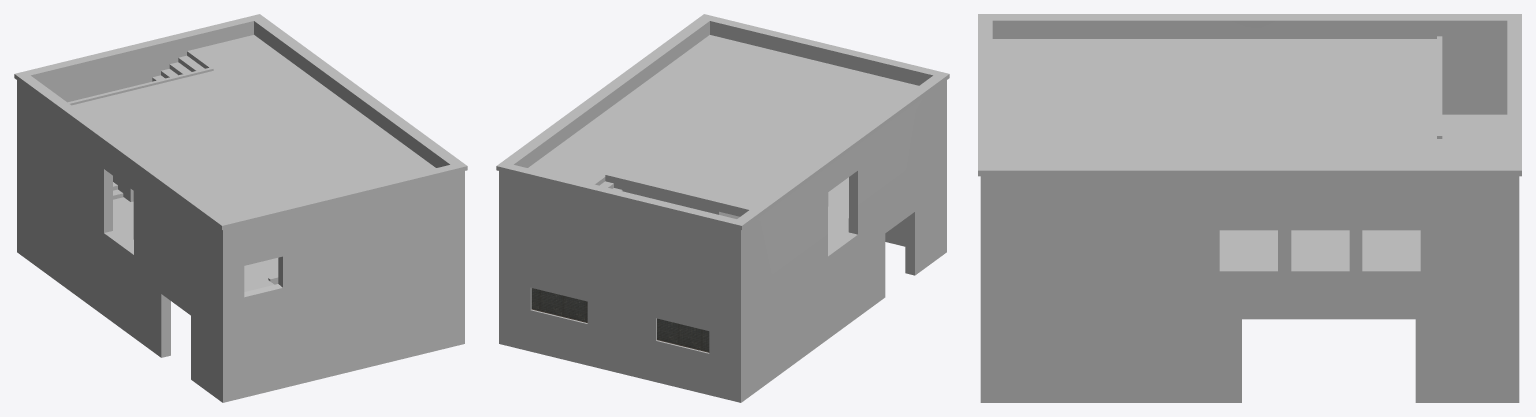
The model's file is BuildingB.FBX.
3 renders of one model, left to right at view 1: azimuth 30°, elevation 25°; view 2: azimuth 150°, elevation 25°; view 3: azimuth 270°, elevation 25°, orthographic. The views are drawn at different scales.
Visible parts, largest first — view 1: BuildingB; view 2: BuildingB; view 3: BuildingB.
Part boxes in pixels (box(x1,y1,x2,y2)): BuildingB: box(14, 14, 467, 402); BuildingB: box(496, 14, 949, 402); BuildingB: box(978, 14, 1521, 402).
Size of the model in its own units: 1312 by 911 by 1923.
